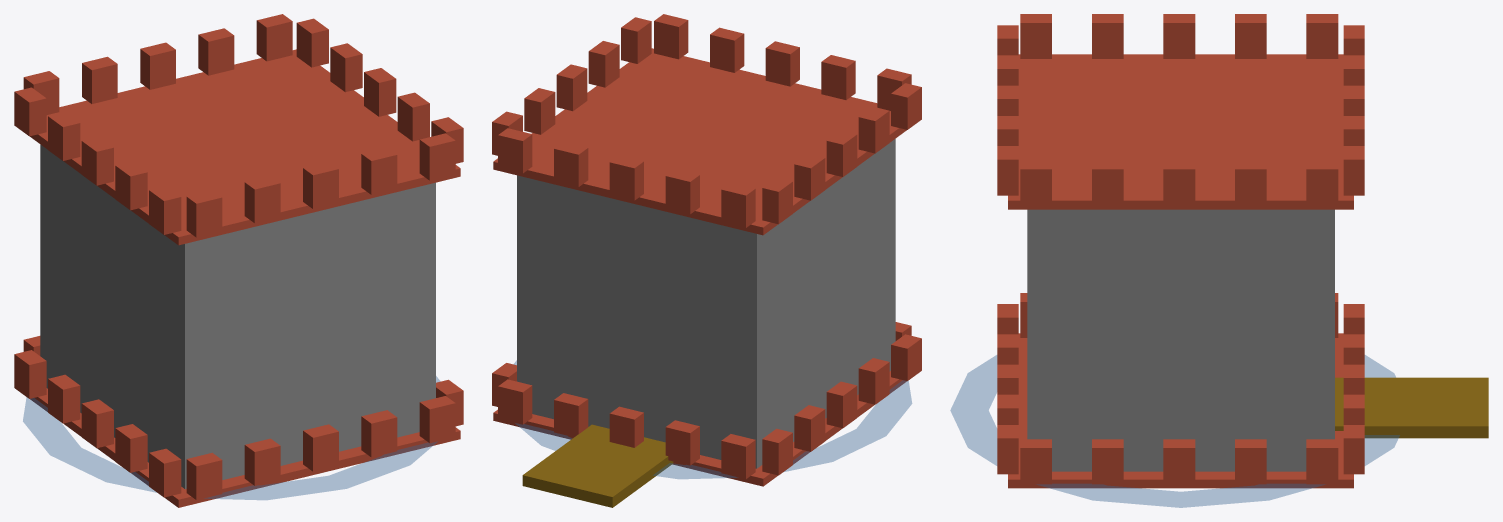
Rendered from citadel_t2.glb.
3 renders of one model, left to right at view 1: azimuth 30°, elevation 25°; view 2: azimuth 150°, elevation 25°; view 3: azimuth 270°, elevation 25°, orthographic. The views are drawn at different scales.
Visible parts, largest first — view 1: building-citadel; view 2: building-citadel, drawbridge; view 3: building-citadel, drawbridge.
Part boxes in pixels (bbox=[...]): building-citadel: bbox=[14, 14, 463, 507]; building-citadel: bbox=[492, 14, 921, 486]; drawbridge: bbox=[522, 424, 673, 507]; building-citadel: bbox=[950, 14, 1399, 507]; drawbridge: bbox=[1335, 377, 1488, 438].
Bounding box in the file's own units: 0.1742 × 0.1348 × 0.2033.
